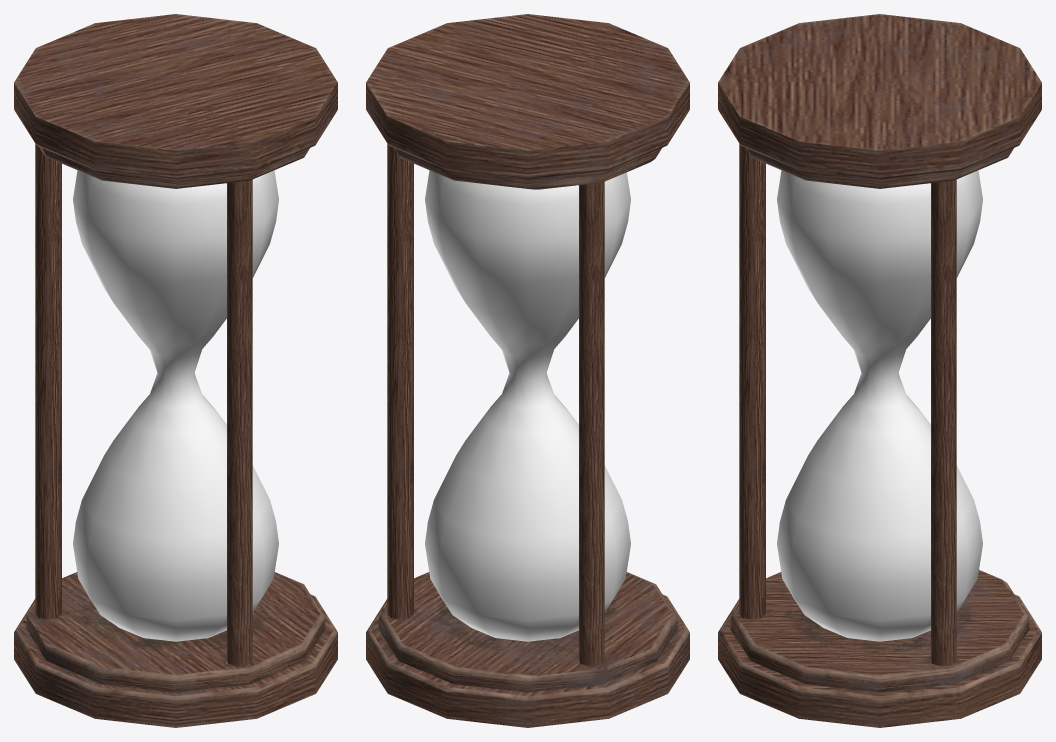
File: suna__clock.fbx
The picture shows the model from 3 angles, left to right: view 1: azimuth 30°, elevation 25°; view 2: azimuth 150°, elevation 25°; view 3: azimuth 270°, elevation 25°; orthographic projection.
Parts seen in each view (by area): view 1: grass, pCylinder6, pCylinder10, pCylinder12, pCylinder11; view 2: grass, pCylinder6, pCylinder10, pCylinder11, pCylinder4; view 3: grass, pCylinder6, pCylinder10, pCylinder4, pCylinder12.
Boxes of the visible parts, x1,y1,x2,y2 form: grass: [73, 170, 278, 641]; pCylinder6: [14, 14, 337, 188]; pCylinder10: [14, 572, 337, 727]; pCylinder12: [227, 179, 252, 666]; pCylinder11: [35, 144, 61, 619]; grass: [425, 170, 630, 641]; pCylinder6: [366, 14, 689, 189]; pCylinder10: [366, 572, 689, 727]; pCylinder11: [579, 182, 604, 666]; pCylinder4: [387, 144, 413, 619]; grass: [777, 170, 982, 641]; pCylinder6: [718, 14, 1041, 188]; pCylinder10: [718, 570, 1041, 727]; pCylinder4: [931, 179, 956, 666]; pCylinder12: [739, 144, 765, 619].
Size of the model in its own units: 10 by 19.66 by 10.
2 materials, 1 textured.
